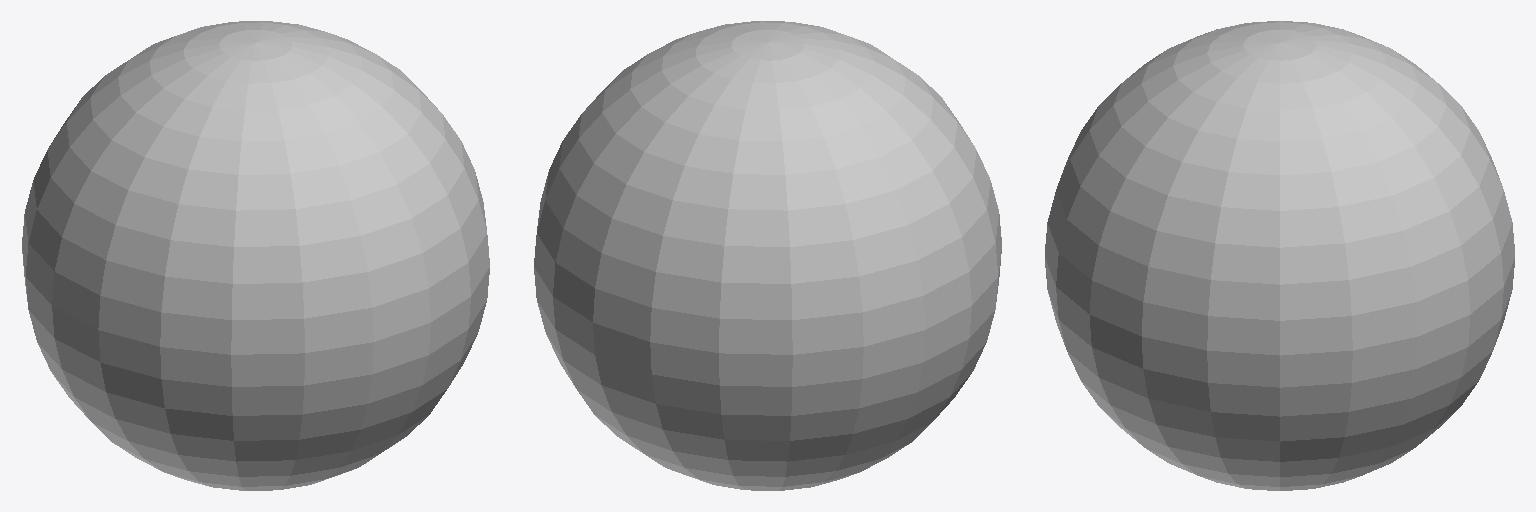
The model's file is foco.OBJ.
The picture shows the model from 3 angles: view 1: azimuth 30°, elevation 25°; view 2: azimuth 150°, elevation 25°; view 3: azimuth 270°, elevation 25°; orthographic projection.
Visible parts, largest first — view 1: pSphere2; view 2: pSphere2; view 3: pSphere2.
Boxes of the visible parts, box(x1,y1,x2,y2) form: pSphere2: box(22, 21, 489, 490); pSphere2: box(534, 21, 1001, 490); pSphere2: box(1045, 21, 1514, 490).
Bounding box in the file's own units: 0.4645 × 0.4645 × 0.4645.